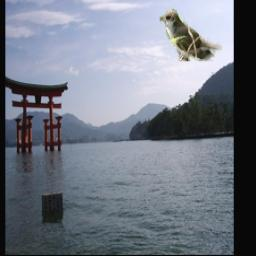Cuckoo: (160, 9, 222, 61)
